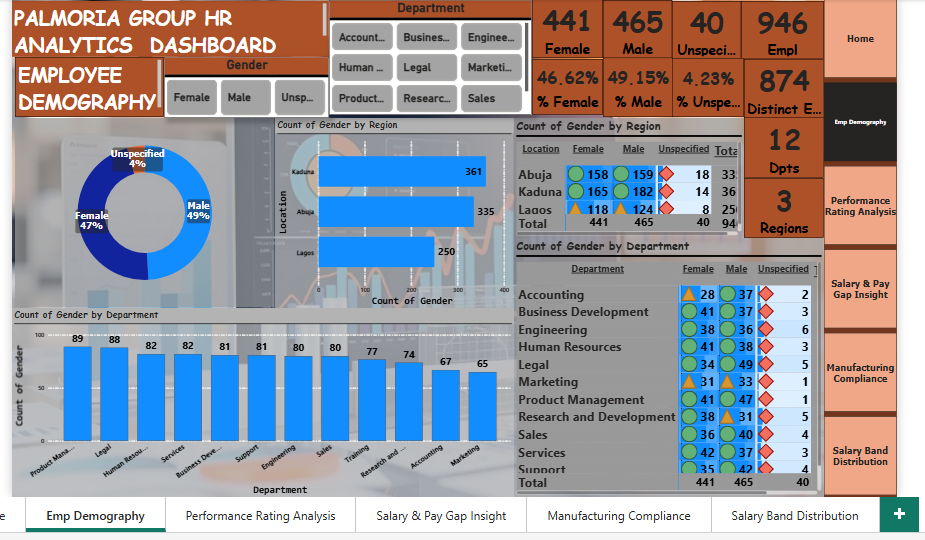

The dashboard page shown, as its layout file describes it:
{"tool":"powerbi","page":{"name":"Emp Demography","canvas":[1920,1080],"ordinal":1},"visuals":[{"type":"textbox","box":[0,4.3,687.5,121.4],"z":0},{"type":"donutChart","fields":{"Category":["Palmoria Group emp-data.Gender"],"Y":["Palmoria Group emp-data.Name"]},"box":[7.2,258.3,562.9,411],"z":1000},{"type":"barChart","title":"Count of Gender by Region","fields":{"Category":["Palmoria Group emp-data.Location"],"Y":["Employee Data.Gender"]},"box":[571.2,257.4,517.5,413],"z":2000},{"type":"clusteredColumnChart","title":"Count of Gender by Department","fields":{"Category":["Employee Data.Department"],"Y":["Employee Data.Gender"]},"box":[0,670.4,1088.7,410.3],"z":3000},{"type":"pivotTable","title":"Count of Gender by Department","fields":{"Rows":["Employee Data.Department"],"Values":["Employee Data.Gender"],"Columns":["Employee Data.Gender"]},"box":[1088.7,518.3,672.3,561.7],"z":4000},{"type":"pivotTable","title":"Count of Gender by Region","fields":{"Rows":["Employee Data.Location"],"Values":["Employee Data.Gender"],"Columns":["Employee Data.Gender"]},"box":[1088.7,257.4,498.8,260.1],"z":5000},{"type":"advancedSlicerVisual","fields":{"Values":["Employee Data.Gender"]},"box":[329.6,125.8,357.8,132.3],"z":6000},{"type":"advancedSlicerVisual","fields":{"Values":["Employee Data.Department"]},"box":[687.5,2.7,439.8,249.4],"z":7000},{"type":"card","fields":{"Values":["Employee Demography.Female"]},"box":[1127.7,0,154,128],"z":8000},{"type":"card","fields":{"Values":["Employee Demography.% Female"]},"box":[1127.7,130.1,154,121.4],"z":9000},{"type":"card","fields":{"Values":["Employee Demography.% Male"]},"box":[1281.7,125.8,151.8,130.1],"z":10000},{"type":"card","fields":{"Values":["Employee Demography.Male"]},"box":[1281.7,2.2,149.6,125.8],"z":11000},{"type":"card","fields":{"Values":["Employee Demography.No Of Regions"]},"box":[1587.5,388.2,173.5,130.1],"z":12000},{"type":"card","fields":{"Values":["Employee Demography.Total Emp"]},"box":[1581,4.3,180,125.8],"z":13000},{"type":"card","fields":{"Values":["Employee Demography.Unspecified"]},"box":[1431.3,4.3,149.6,125.8],"z":14000},{"type":"card","fields":{"Values":["Employee Demography.% Unspecified"]},"box":[1431.3,128,156.1,128],"z":15000},{"type":"card","fields":{"Values":["Employee Demography.Distinct Emp"]},"box":[1587.5,130.1,173.5,128],"z":16000},{"type":"card","fields":{"Values":["Employee Demography.No of Dpt"]},"box":[1587.5,255.9,173.5,132.3],"z":17000},{"type":"textbox","box":[6.5,125.8,323.1,130.1],"z":18000},{"type":"pageNavigator","box":[1761,0,158.3,1080],"z":18001}]}

Visuals, with their boxes on the page's 1920x1080 design canvas (x1, y1, x2, y2). These are canvas units, not pixel positions in the 925x540 screenshot, which may show the page scaled, cropped or inside an application window:
textbox: (left=0, top=4, right=688, bottom=126)
donutChart - Palmoria Group emp-data.Gender x Palmoria Group emp-data.Name: (left=7, top=258, right=570, bottom=669)
"Count of Gender by Region" barChart: (left=571, top=257, right=1089, bottom=670)
"Count of Gender by Department" clusteredColumnChart: (left=0, top=670, right=1089, bottom=1081)
"Count of Gender by Department" pivotTable: (left=1089, top=518, right=1761, bottom=1080)
"Count of Gender by Region" pivotTable: (left=1089, top=257, right=1588, bottom=518)
advancedSlicerVisual - Employee Data.Gender: (left=330, top=126, right=687, bottom=258)
advancedSlicerVisual - Employee Data.Department: (left=688, top=3, right=1127, bottom=252)
card - Employee Demography.Female: (left=1128, top=0, right=1282, bottom=128)
card - Employee Demography.% Female: (left=1128, top=130, right=1282, bottom=252)
card - Employee Demography.% Male: (left=1282, top=126, right=1434, bottom=256)
card - Employee Demography.Male: (left=1282, top=2, right=1431, bottom=128)
card - Employee Demography.No Of Regions: (left=1588, top=388, right=1761, bottom=518)
card - Employee Demography.Total Emp: (left=1581, top=4, right=1761, bottom=130)
card - Employee Demography.Unspecified: (left=1431, top=4, right=1581, bottom=130)
card - Employee Demography.% Unspecified: (left=1431, top=128, right=1587, bottom=256)
card - Employee Demography.Distinct Emp: (left=1588, top=130, right=1761, bottom=258)
card - Employee Demography.No of Dpt: (left=1588, top=256, right=1761, bottom=388)
textbox: (left=6, top=126, right=330, bottom=256)
pageNavigator: (left=1761, top=0, right=1919, bottom=1080)
